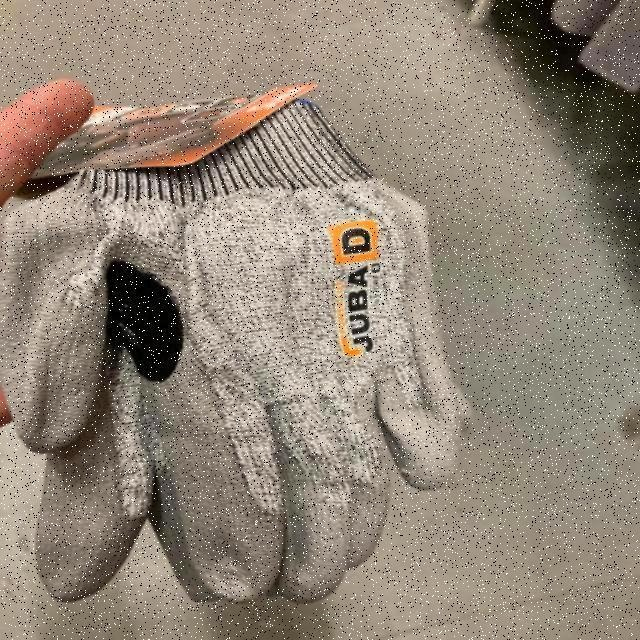Guantes: (82, 106, 437, 576)
